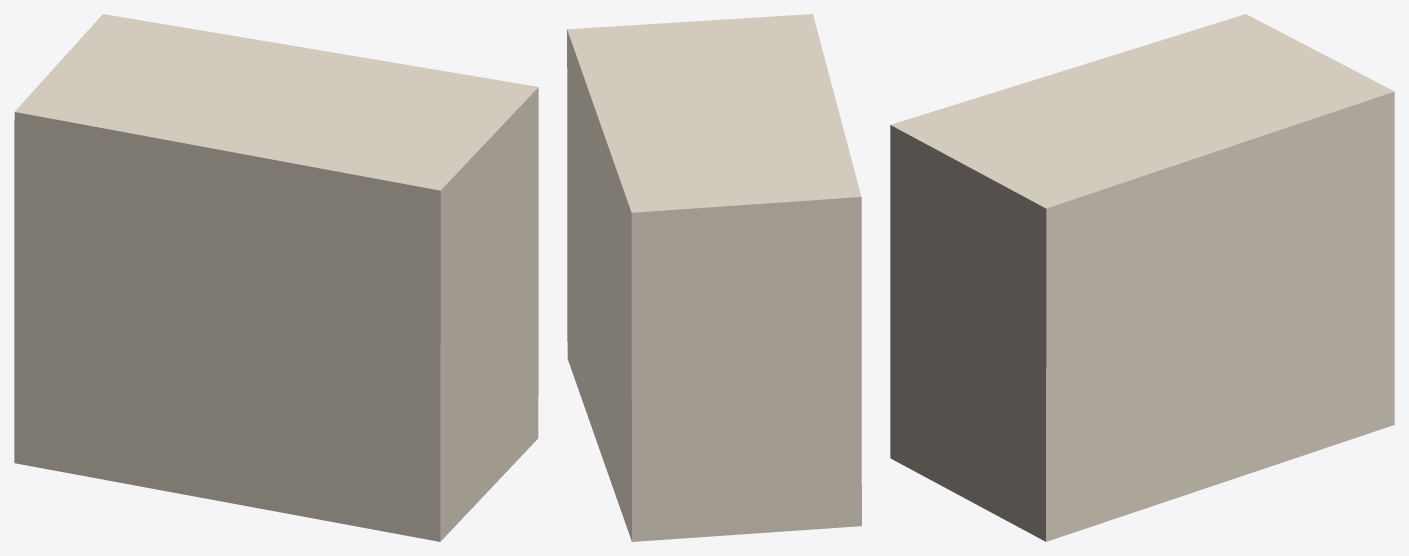
The picture shows the model from 3 angles, left to right: view 1: azimuth 30°, elevation 25°; view 2: azimuth 150°, elevation 25°; view 3: azimuth 270°, elevation 25°; orthographic projection. The views are drawn at different scales.
Size of the model in its own units: 7.5 by 6.01 by 8.23.
